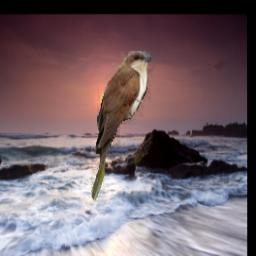Cuckoo: (91, 51, 151, 200)
